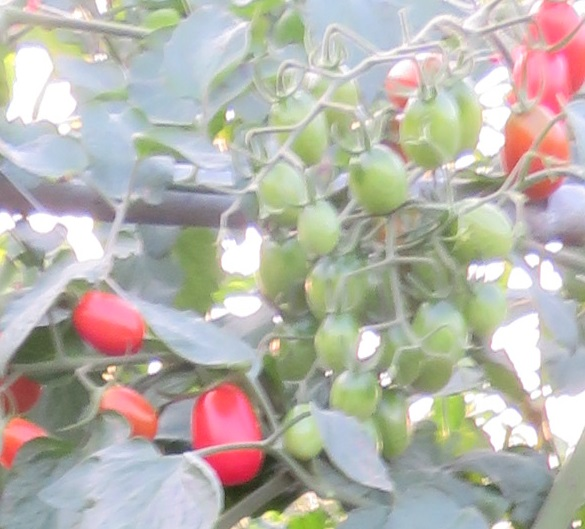green: (443, 201, 511, 263), (402, 91, 456, 168), (268, 96, 328, 165), (352, 147, 410, 215), (308, 66, 358, 141), (415, 295, 469, 364), (305, 260, 372, 311), (447, 73, 482, 158), (316, 313, 360, 369), (296, 204, 339, 259), (469, 281, 511, 337), (329, 370, 380, 414), (258, 238, 301, 284), (379, 392, 407, 458), (263, 167, 301, 211), (288, 422, 322, 464)
orange: (503, 102, 574, 198), (103, 384, 160, 439)
red: (189, 381, 262, 487), (72, 290, 146, 357), (512, 46, 570, 110), (532, 1, 585, 57), (4, 416, 47, 471)
